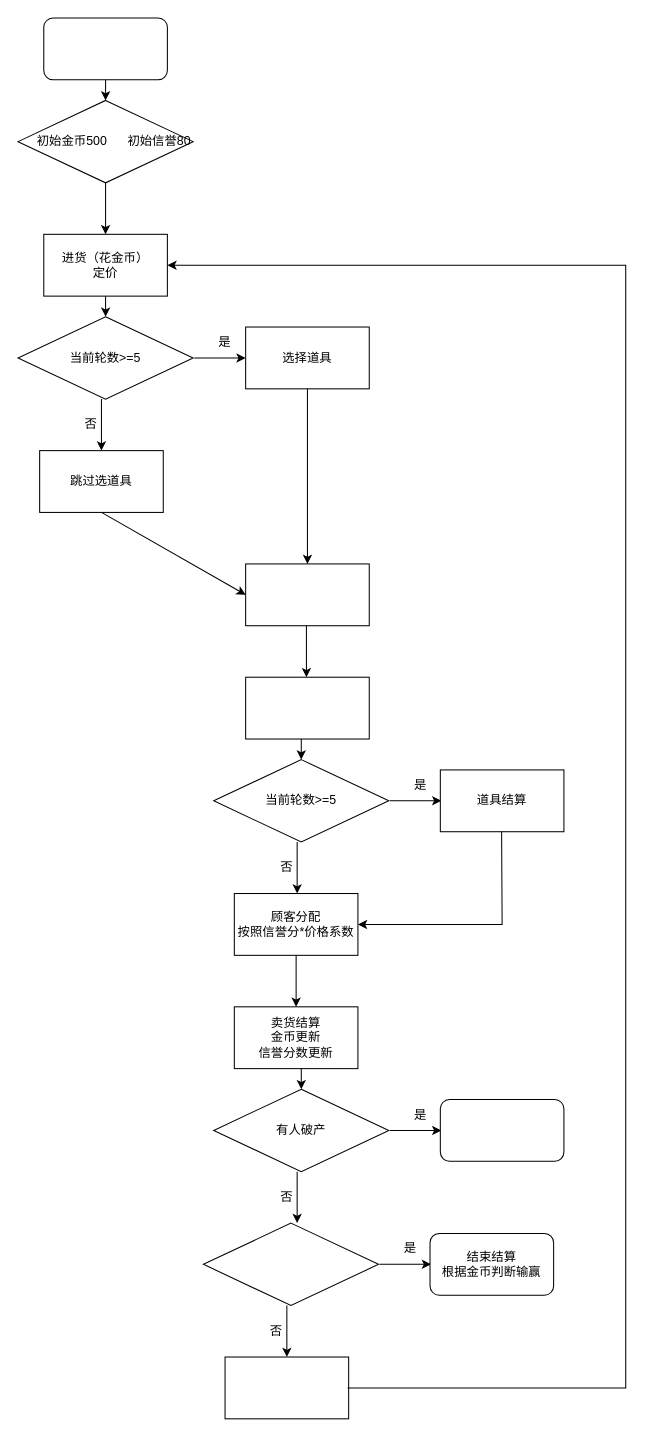
Image size: 652x1437. Some labels were removed from this diagram. The shapes that lost their labels are listed below. From the top down, each one's box as (x1, y1, x2, y2) in pixels, then its label:
(43, 17, 167, 80): 开始
(245, 563, 369, 626): 准备阶段
(245, 676, 369, 739): 开市结算
(439, 1098, 564, 1161): 对手获胜
(202, 1222, 379, 1306): 当前轮数=7
(224, 1356, 349, 1419): 轮数+1
